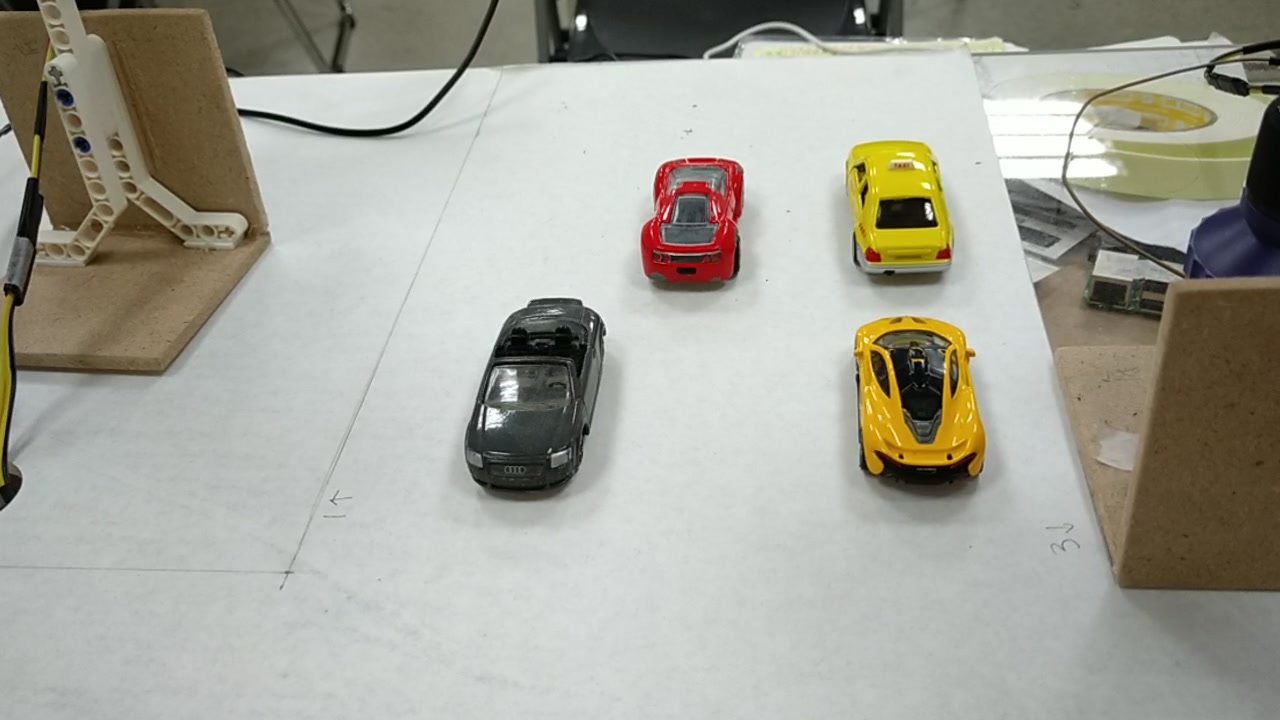car: (465, 303, 611, 490), (857, 310, 983, 490), (640, 152, 750, 284), (852, 135, 948, 275)
